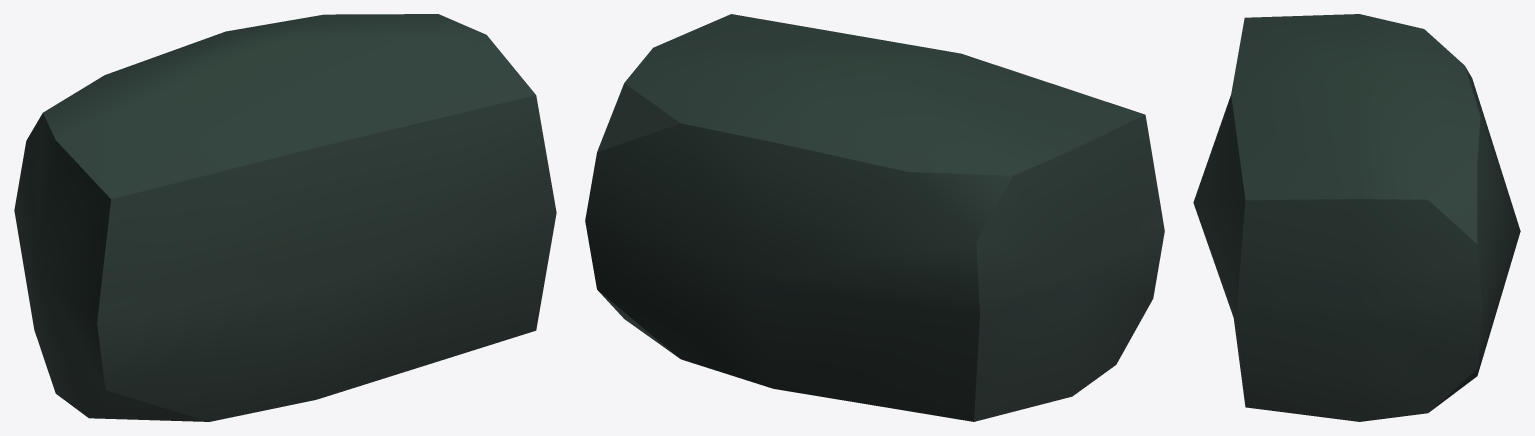
Rendered from SM_Cliff_01.fbx.
3 renders of one model, left to right at view 1: azimuth 30°, elevation 25°; view 2: azimuth 150°, elevation 25°; view 3: azimuth 270°, elevation 25°, orthographic. The views are drawn at different scales.
Visible parts, largest first — view 1: SM_Cliff_01; view 2: SM_Cliff_01; view 3: SM_Cliff_01.
Part boxes in pixels (x1,y1,x2,y2): SM_Cliff_01: [14, 14, 556, 421]; SM_Cliff_01: [585, 14, 1164, 421]; SM_Cliff_01: [1193, 14, 1520, 421].
Size of the model in its own units: 503 by 343 by 342.
1 material, 1 textured.
